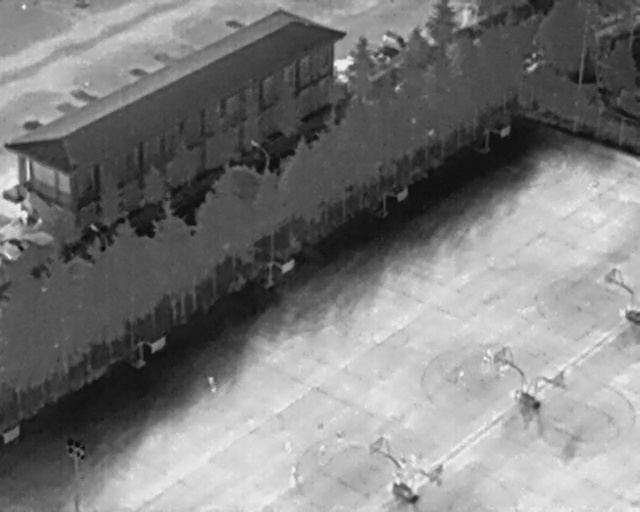Car: (0, 235, 32, 260)
Person: (205, 374, 220, 395), (484, 347, 498, 365), (289, 467, 300, 489), (333, 429, 346, 447), (497, 362, 509, 379), (19, 208, 29, 227), (283, 439, 293, 455), (482, 356, 490, 373), (318, 444, 327, 459), (399, 454, 407, 467), (409, 454, 417, 467), (395, 472, 402, 486)
